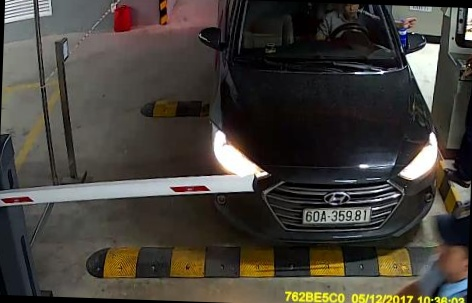plate: (295, 200, 372, 225)
